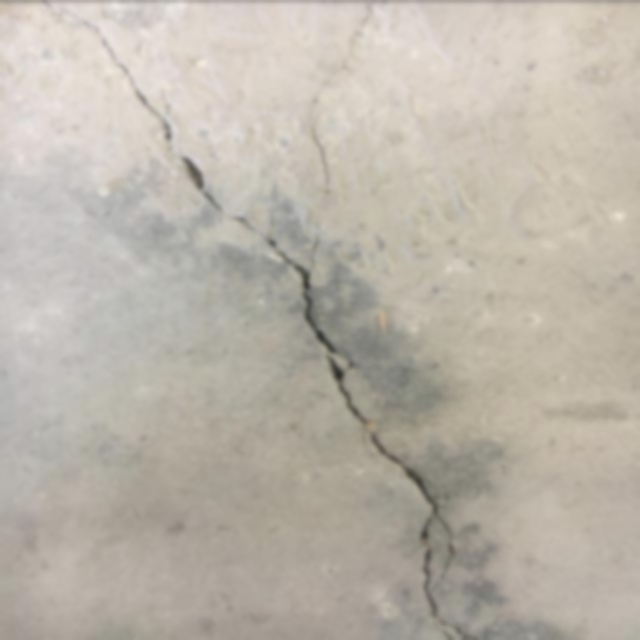SurfaceCrack: (5, 2, 520, 640)
